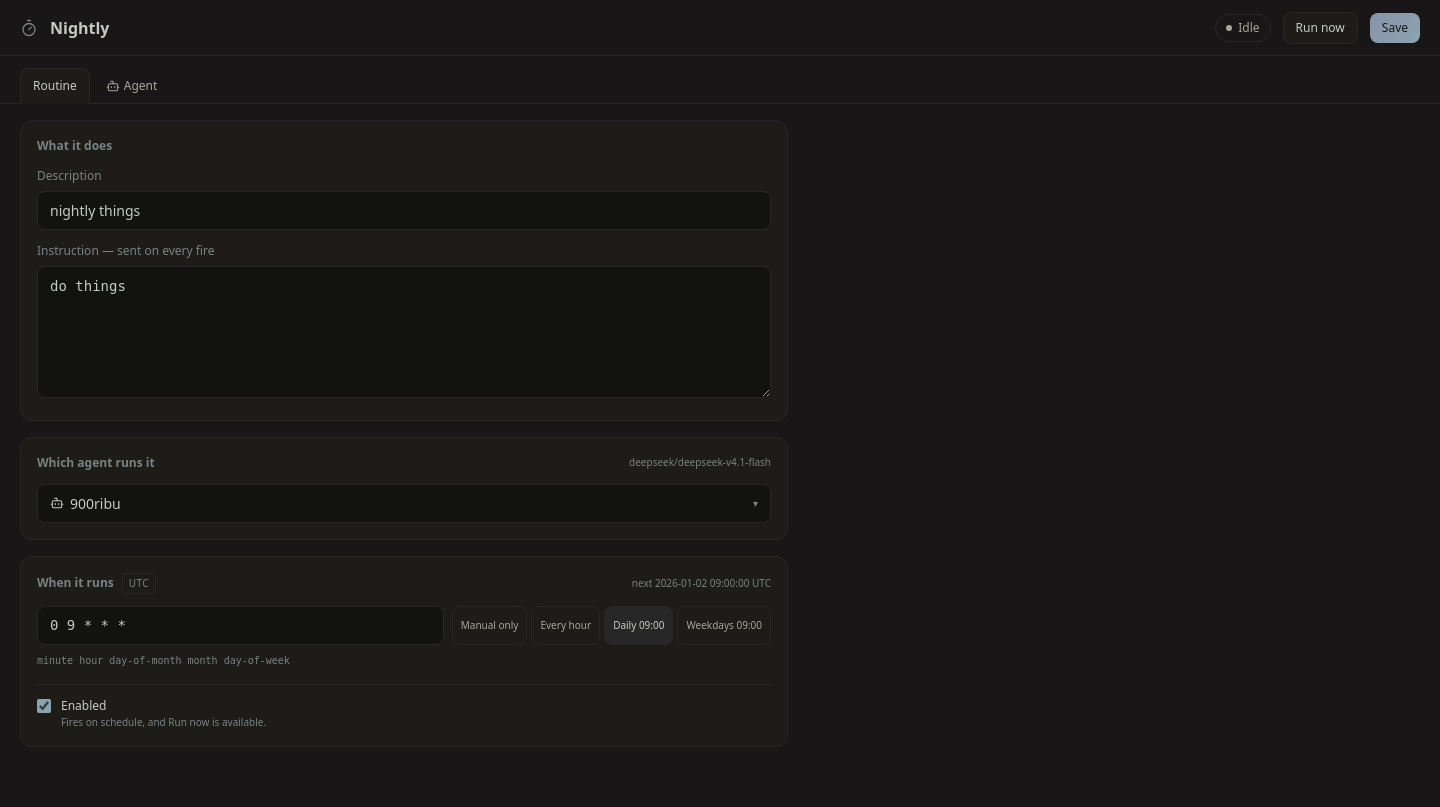
Scenario: RoutineView › keeps the previous agent model when the server rejects the new one
Click the button with test id "routine-agent-model-picker". click: {"x": 95, "y": 503}
box: [37, 484, 771, 523]
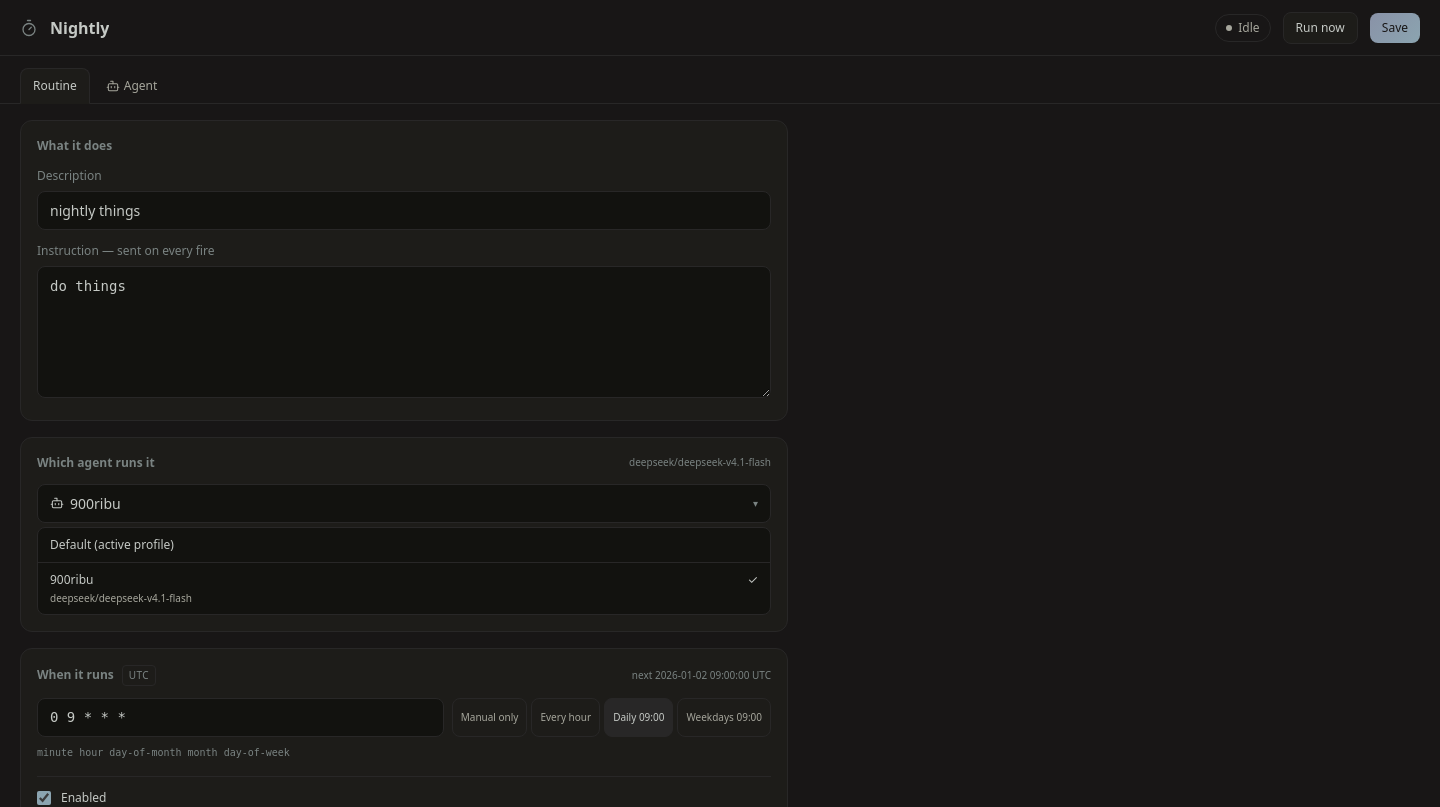
Click the button with test id "routine-agent-model-option" showing "Default (active profile)". click: {"x": 112, "y": 544}
box: [38, 528, 770, 562]
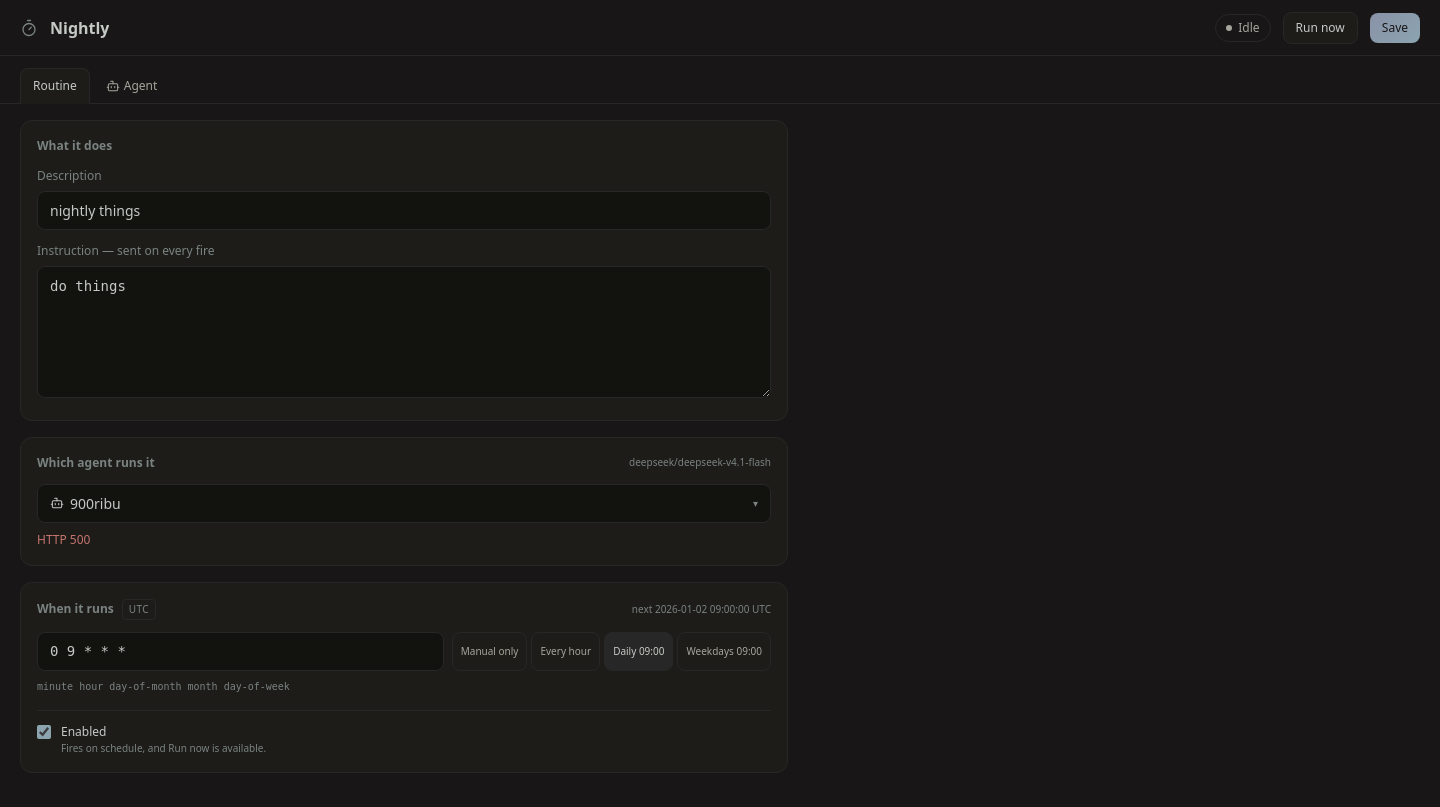
Check: the button with test id "routine-agent-model-picker" shows "900ribu", box [37, 484, 771, 523]
Check: the text with test id "routine-agent-model-error" reads "HTTP 500", box [37, 531, 90, 548]
